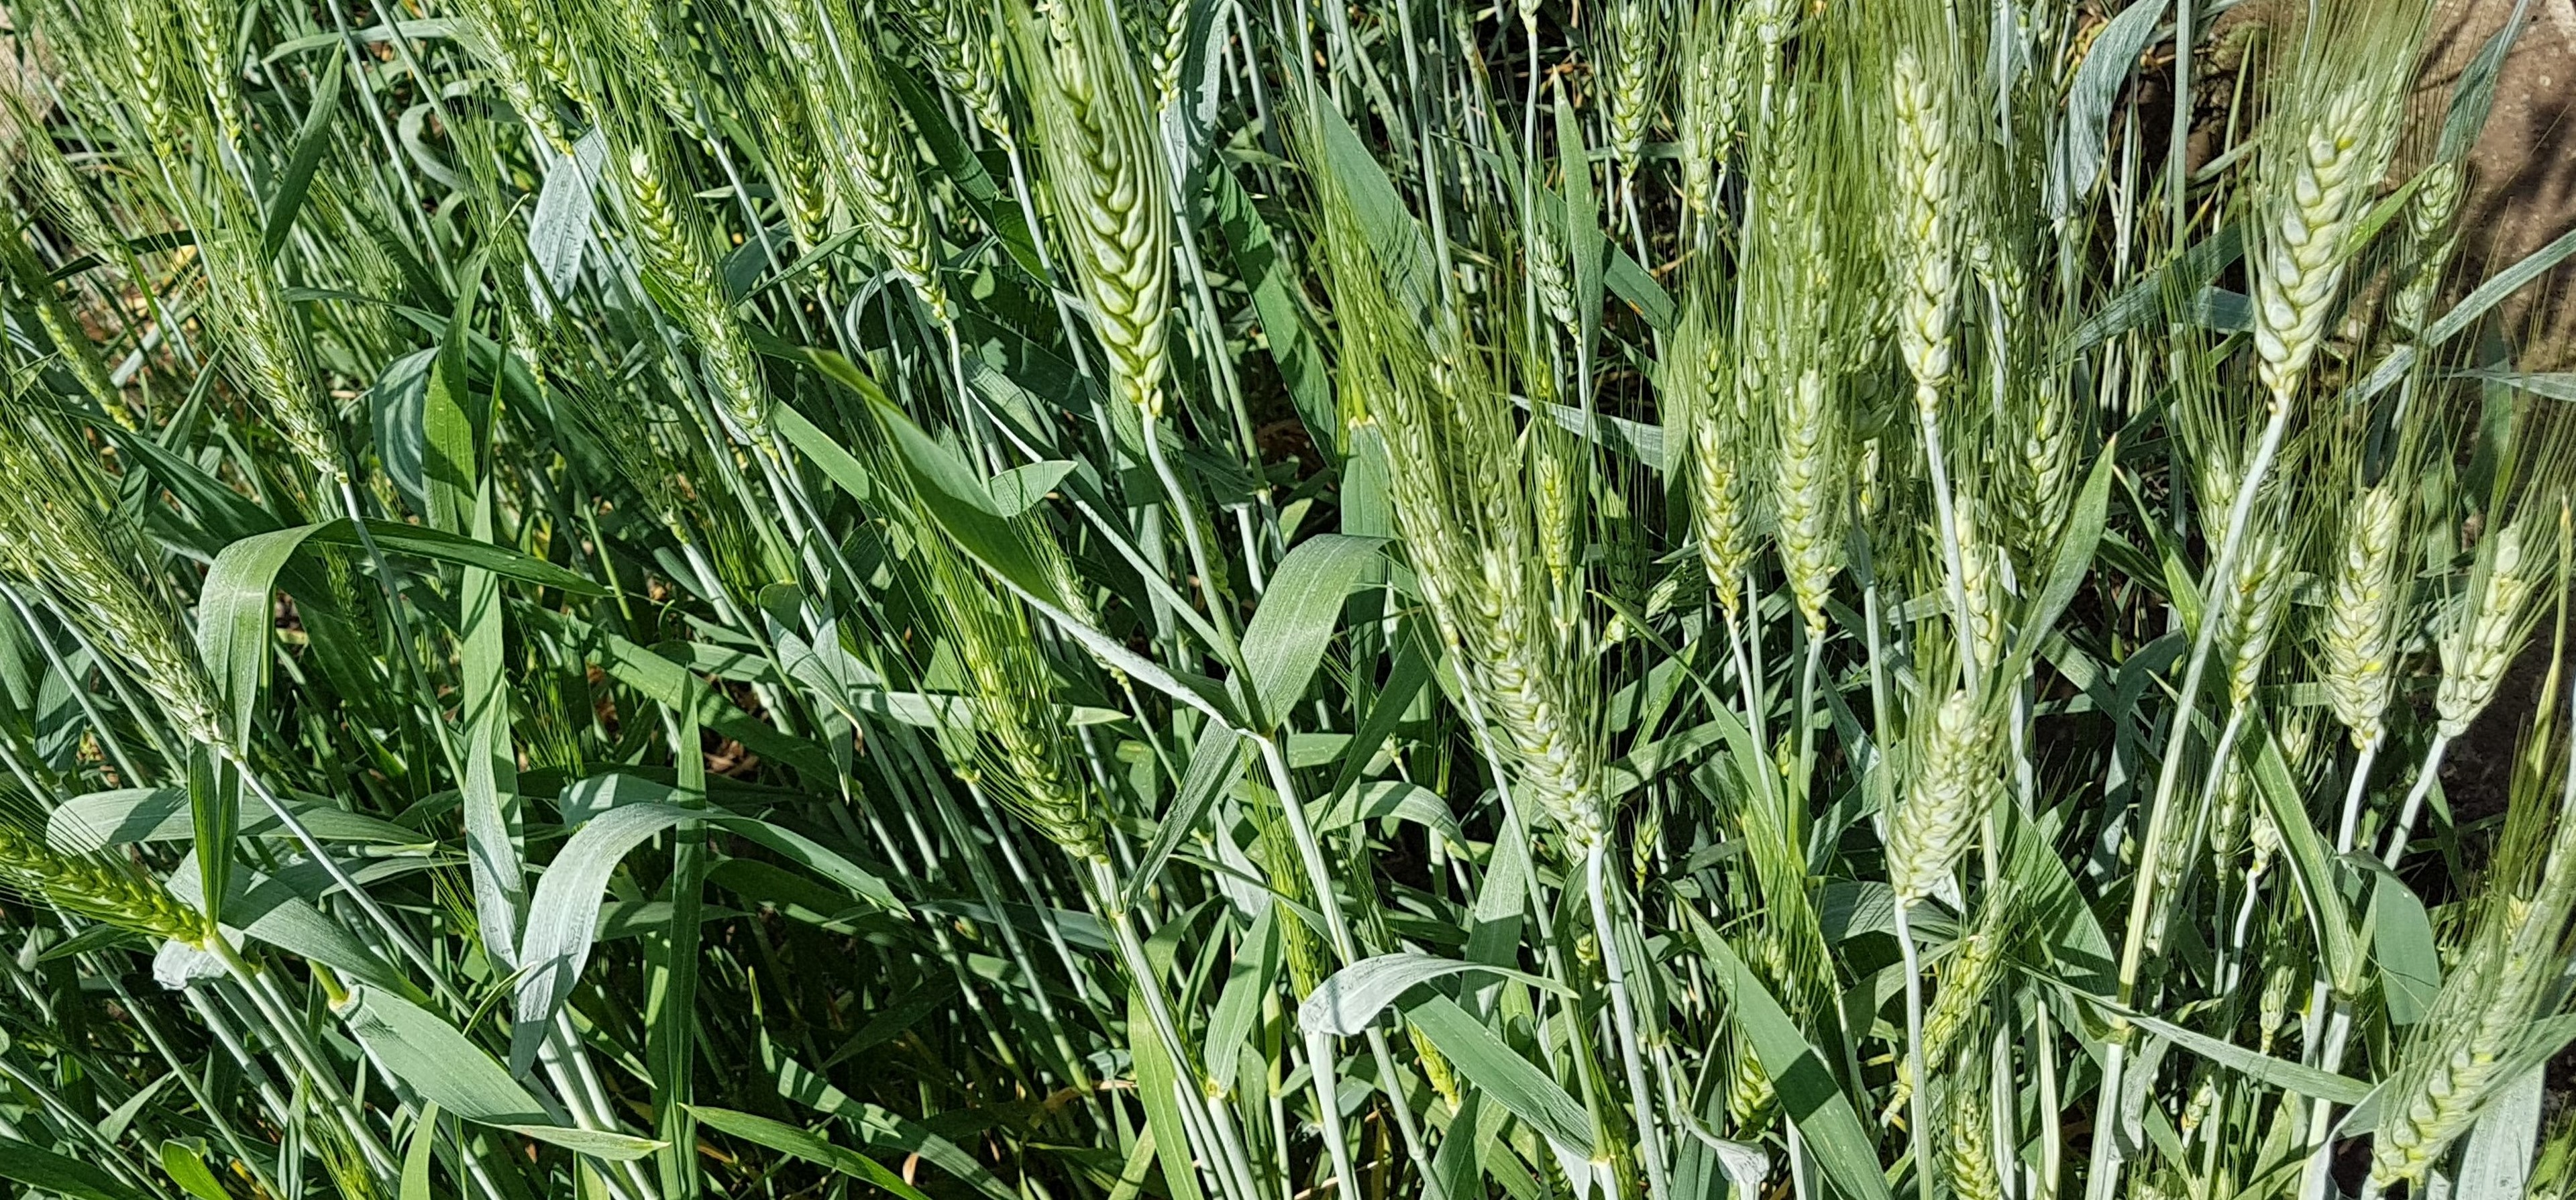Healthy Wheat: (2318, 466, 2533, 747), (2244, 59, 2412, 412), (39, 492, 248, 750), (1027, 77, 1189, 394), (1866, 49, 1973, 363), (805, 77, 953, 295)
